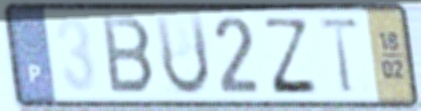2: (211, 14, 264, 98)
3: (54, 14, 99, 97)
B: (99, 13, 159, 97)
T: (317, 15, 363, 98)
U: (151, 11, 214, 100)
Z: (261, 14, 321, 97)
